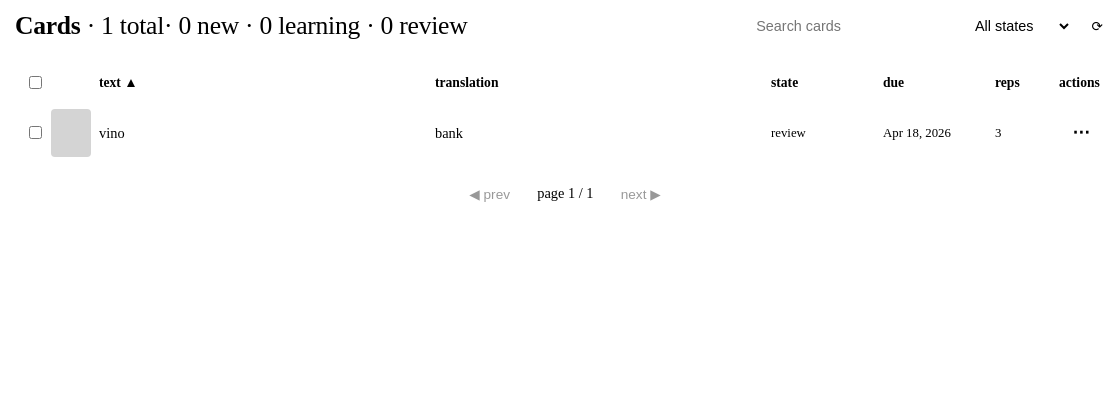
Test: cards/+page.svelte › shows error when saveEdit fails with non-Error
Expected: the text "vino" is shown, [99,124,125,140]
What coordinates should you click on to do the following:
click the button "⋯"
I would click on:
 (1081, 133)
Its box is [1059,119,1103,147].
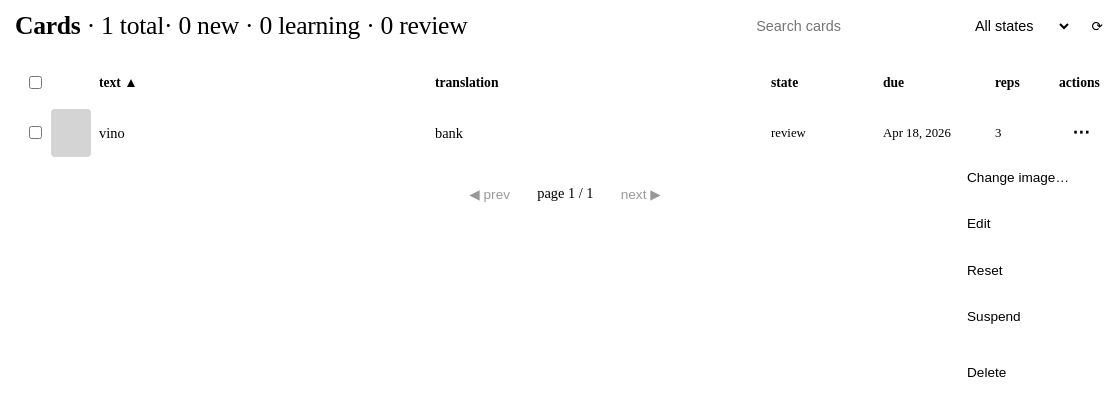
What coordinates should you click on to do the following:
click the menu item "Edit"
I would click on:
 (1027, 224)
Its box is [955,202,1099,246].
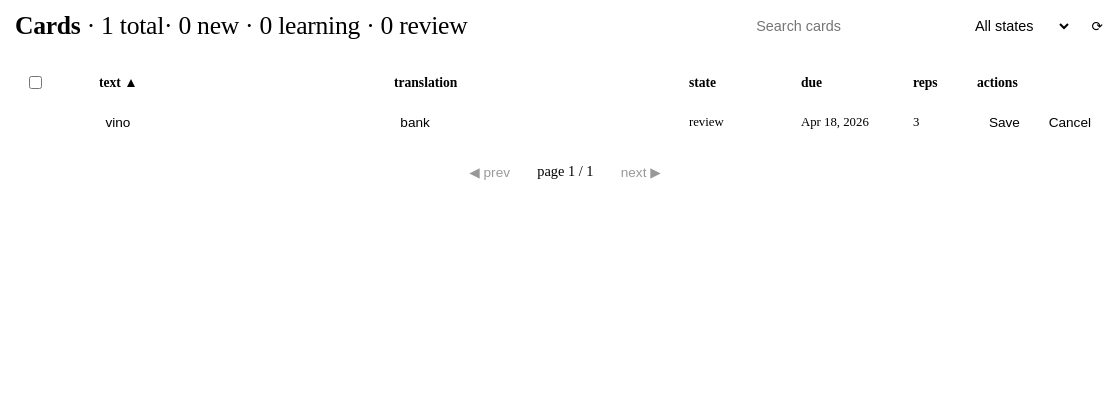
What coordinates should you click on to do the following:
click the button "Save"
I would click on:
 (1004, 122)
Its box is [977,109,1032,135].
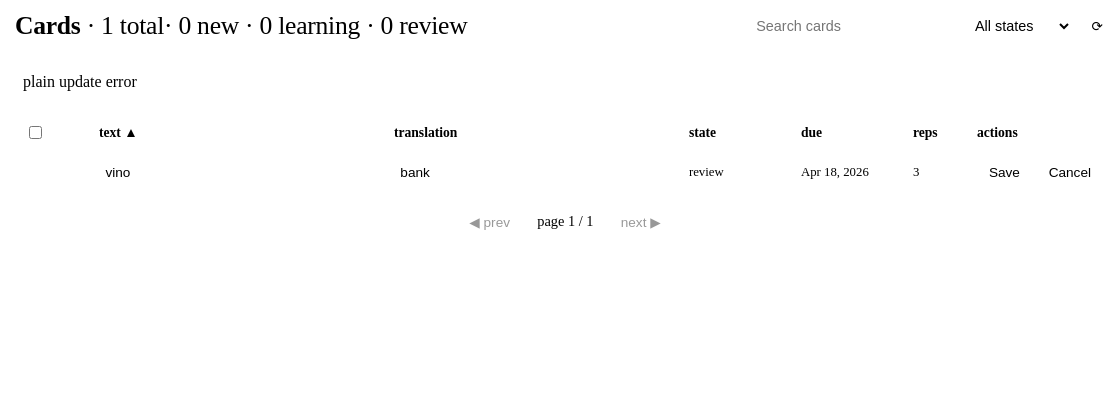
Now the text "plain update error" is shown, box [23,73,137,90]
